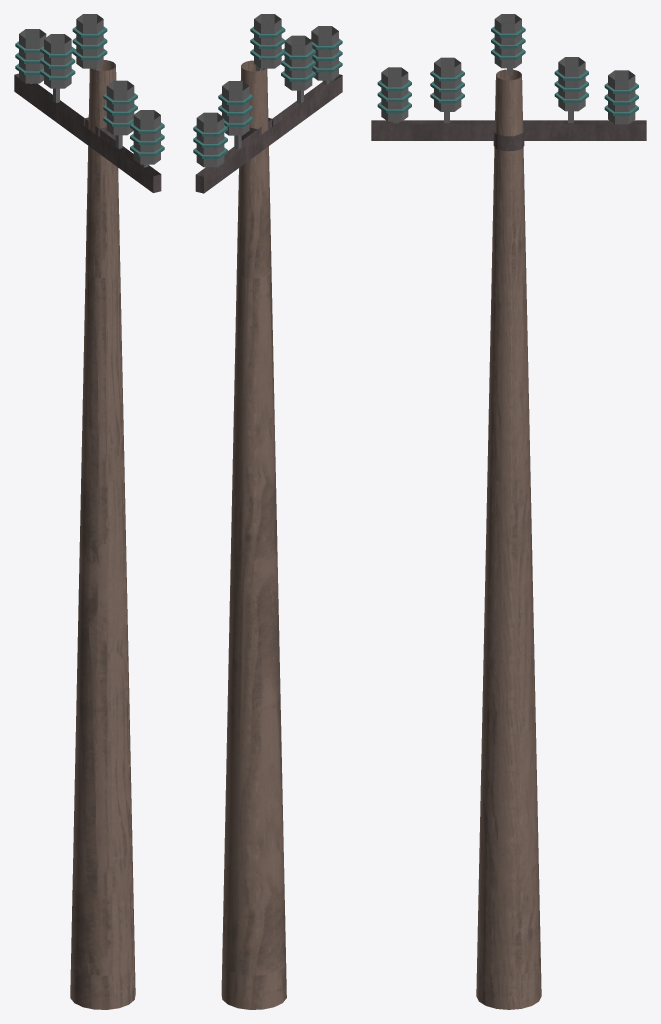
Rendered from LEP2.fbx.
3 renders of one model, left to right at view 1: azimuth 30°, elevation 25°; view 2: azimuth 150°, elevation 25°; view 3: azimuth 270°, elevation 25°, orthographic.
Visible parts, largest first — view 1: Cylinder.003; view 2: Cylinder.003; view 3: Cylinder.003.
Boxes of the visible parts, x1,y1,x2,y2 form: Cylinder.003: [14, 14, 164, 1009]; Cylinder.003: [193, 14, 342, 1009]; Cylinder.003: [371, 14, 646, 1009].
Bounding box in the file's own units: 48.45 × 795 × 204.
